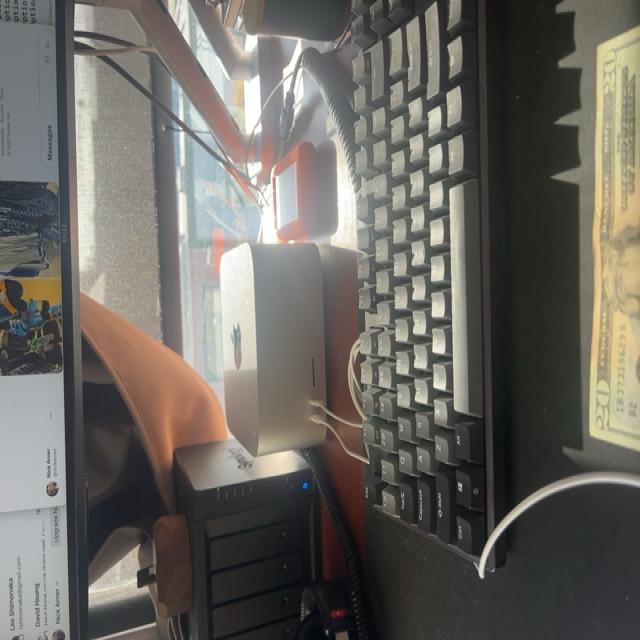twenty: (589, 29, 640, 451)
